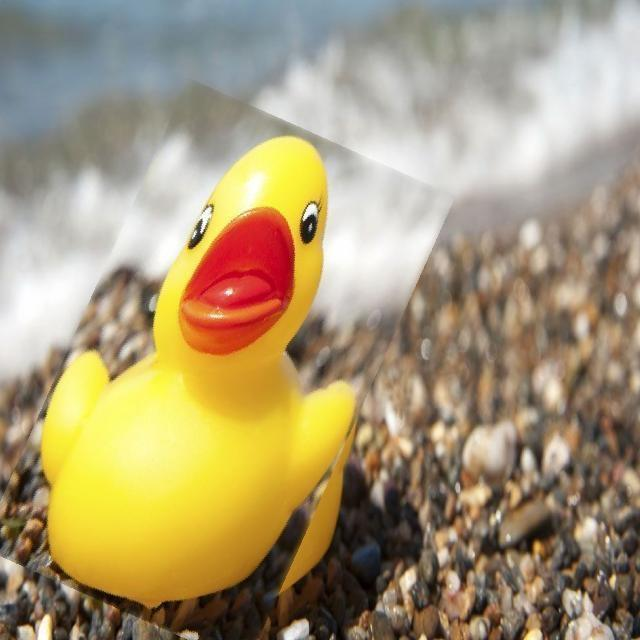rubber-duck: (1, 84, 448, 638)
